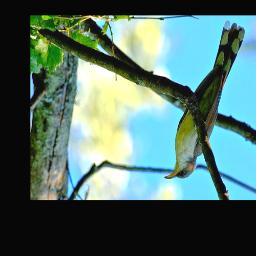Cuckoo: (164, 22, 244, 180)
